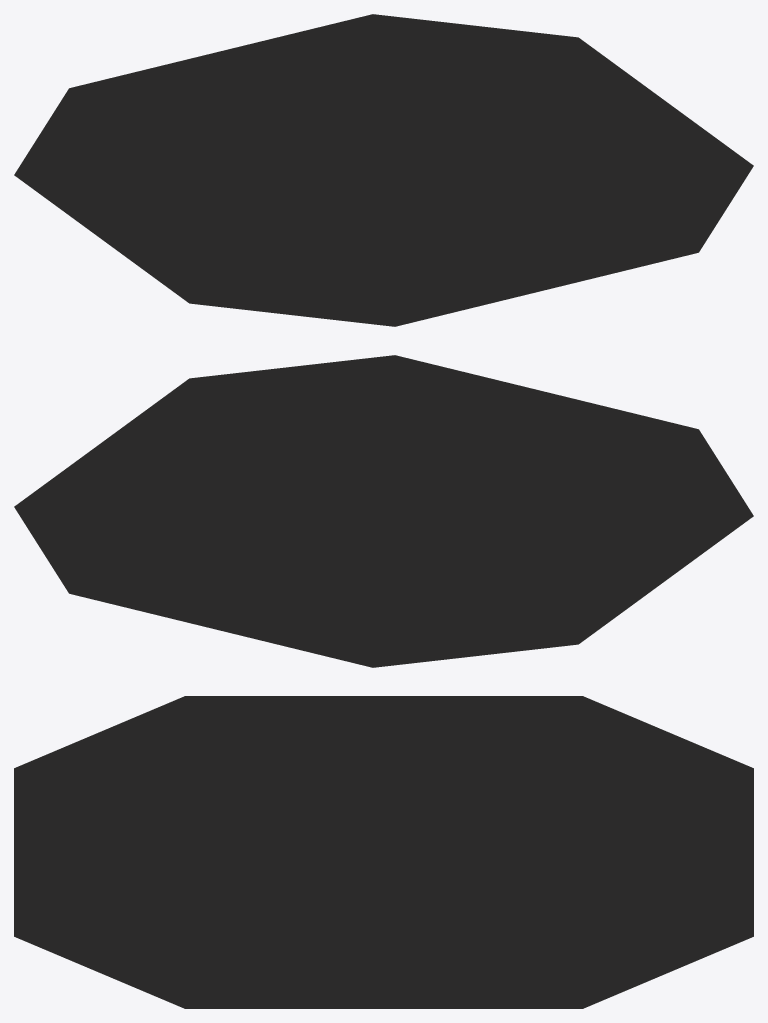
File: SM_ImpassNew_Water00.fbx
The picture shows the model from 3 angles, top to bottom: view 1: azimuth 30°, elevation 25°; view 2: azimuth 150°, elevation 25°; view 3: azimuth 270°, elevation 25°; orthographic projection. The views are drawn at different scales.
Parts seen in each view (by area): view 1: SM_ImpassNew_Water00; view 2: SM_ImpassNew_Water00; view 3: SM_ImpassNew_Water00.
Boxes of the visible parts, x1,y1,x2,y2 form: SM_ImpassNew_Water00: (14,14,753,326); SM_ImpassNew_Water00: (14,355,753,667); SM_ImpassNew_Water00: (14,696,753,1008).
Size of the model in its own units: 797 by 0 by 797.
